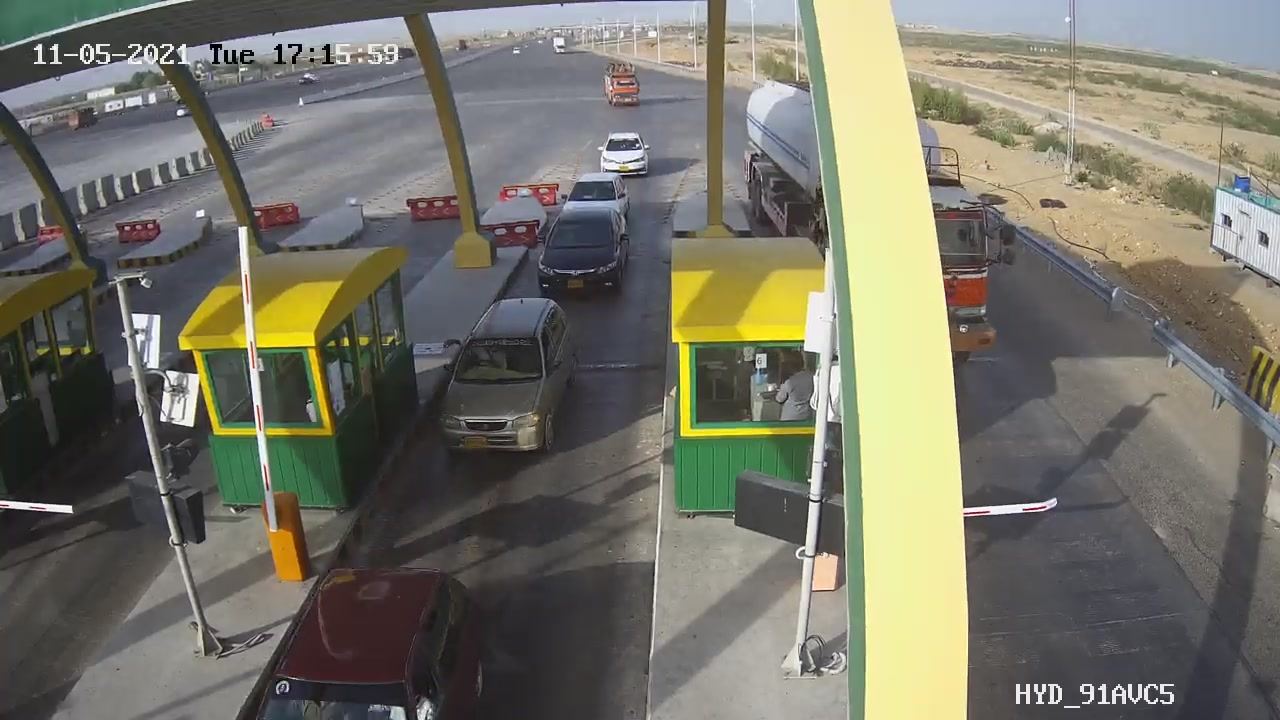F1: (427, 283, 589, 474), (524, 200, 643, 309)
